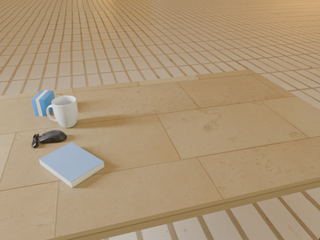book: (39, 143, 104, 188)
box: (32, 91, 55, 116)
cup: (46, 96, 78, 128)
mouse: (32, 130, 67, 148)
